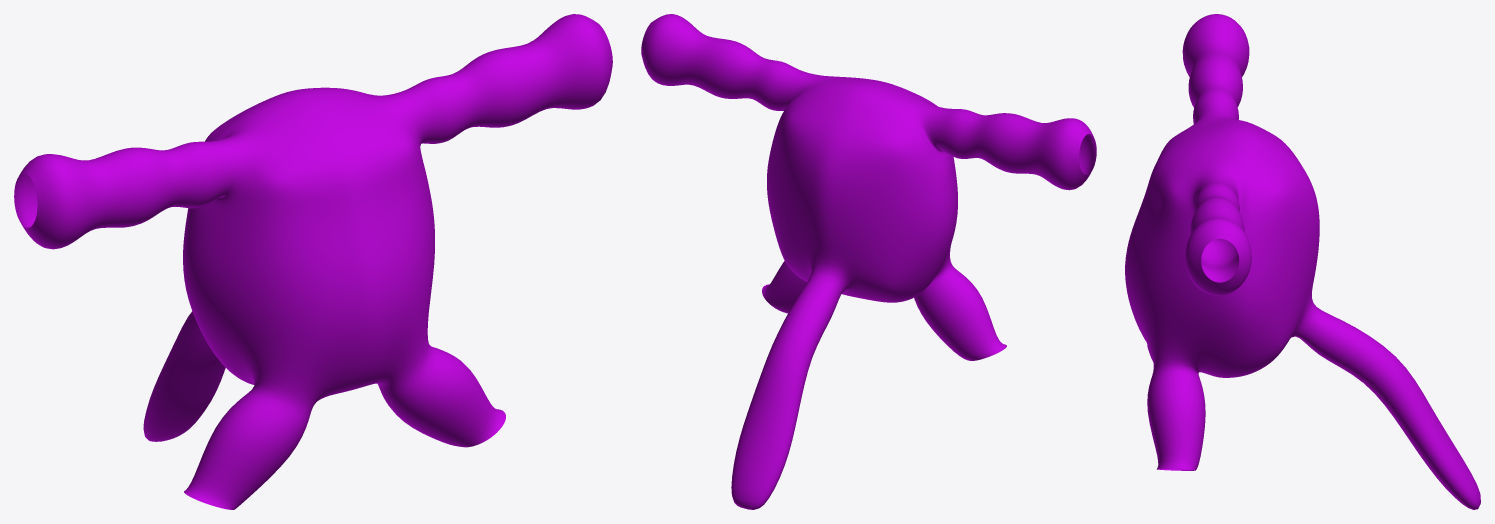
File: zone4-singe-purple.gltf
The picture shows the model from 3 angles, left to right: view 1: azimuth 30°, elevation 25°; view 2: azimuth 150°, elevation 25°; view 3: azimuth 270°, elevation 25°; orthographic projection. The views are drawn at different scales.
Visible parts, largest first — view 1: Roundcube.028; view 2: Roundcube.028; view 3: Roundcube.028.
Boxes of the visible parts, x1,y1,x2,y2 form: Roundcube.028: [14, 14, 612, 509]; Roundcube.028: [641, 14, 1096, 509]; Roundcube.028: [1125, 14, 1480, 509].
Size of the model in its own units: 4.29 by 3.34 by 2.76.
